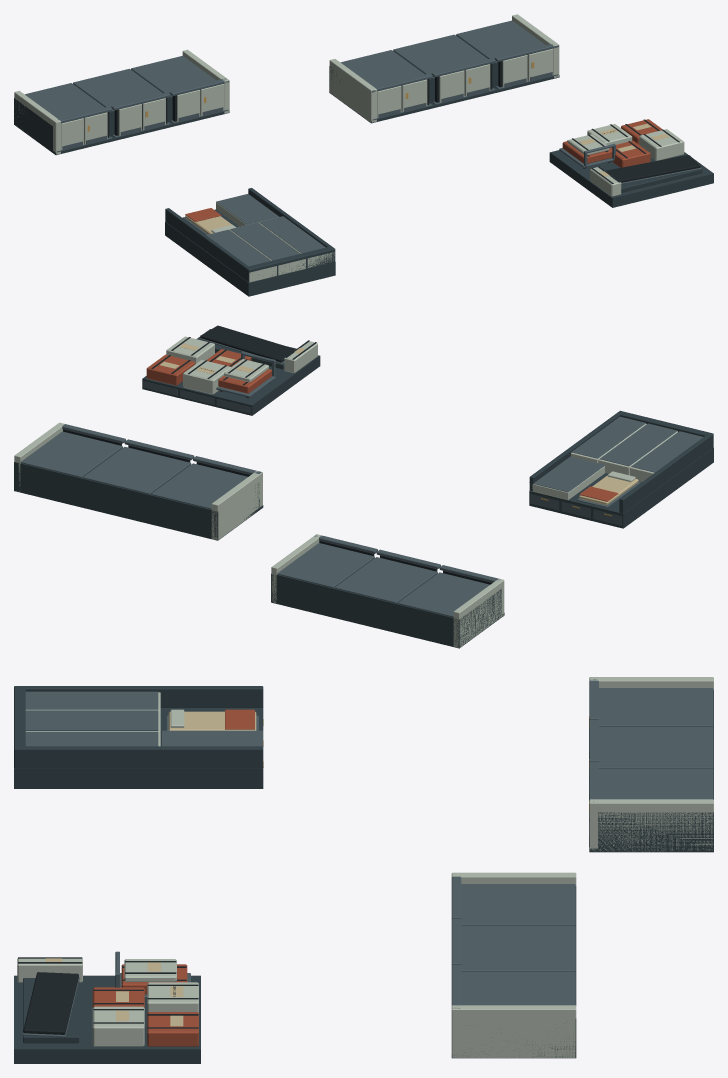
Rendered from residential-gallery-equipment.glb.
3 renders of one model, top to bottom at view 1: azimuth 30°, elevation 25°; view 2: azimuth 150°, elevation 25°; view 3: azimuth 270°, elevation 25°, orthographic. The views are drawn at different scales.
Visible parts, largest first — view 1: rg_cabin_ne__batch_rg_edge, rg_cabin_nw__batch_rg_edge, rg_cabin_ne__batch_rg_armor, rg_bunk_storage__batch_rg_steel, rg_cabin_nw__batch_rg_armor, rg_bunk_storage__batch_rg_edge, rg_packing__batch_rg_steel, rg_packing__batch_rg_armor, rg_cabin_nw__batch_rg_steel, rg_packing__batch_rg_rubber, rg_packing__batch_rg_red, rg_bunk_storage__batch_rg_armor (+4 smaller); view 2: rg_cabin_ne__batch_rg_edge, rg_cabin_nw__batch_rg_edge, rg_cabin_nw__batch_rg_steel, rg_bunk_storage__batch_rg_edge, rg_cabin_ne__batch_rg_steel, rg_bunk_storage__batch_rg_steel, rg_packing__batch_rg_armor, rg_cabin_nw__batch_rg_armor, rg_cabin_ne__batch_rg_armor, rg_packing__batch_rg_steel, rg_packing__batch_rg_rubber, rg_packing__batch_rg_red (+4 smaller); view 3: rg_cabin_ne__batch_rg_edge, rg_bunk_storage__batch_rg_steel, rg_cabin_nw__batch_rg_edge, rg_bunk_storage__batch_rg_edge, rg_cabin_ne__batch_rg_armor, rg_cabin_nw__batch_rg_armor, rg_packing__batch_rg_steel, rg_packing__batch_rg_armor, rg_cabin_nw__batch_rg_steel, rg_packing__batch_rg_rubber, rg_packing__batch_rg_red, rg_bunk_storage__batch_rg_bone (+3 smaller).
Boxes of the visible parts, <box> form: rg_cabin_ne__batch_rg_edge: <box>340,20,558,120</box>; rg_cabin_nw__batch_rg_edge: <box>25,55,228,152</box>; rg_cabin_ne__batch_rg_armor: <box>329,14,559,122</box>; rg_bunk_storage__batch_rg_steel: <box>165,188,335,296</box>; rg_cabin_nw__batch_rg_armor: <box>14,49,229,154</box>; rg_bunk_storage__batch_rg_edge: <box>183,194,325,266</box>; rg_packing__batch_rg_steel: <box>549,150,713,207</box>; rg_packing__batch_rg_armor: <box>568,124,684,196</box>; rg_cabin_nw__batch_rg_steel: <box>14,69,229,155</box>; rg_packing__batch_rg_rubber: <box>564,119,700,183</box>; rg_packing__batch_rg_red: <box>562,119,662,167</box>; rg_bunk_storage__batch_rg_armor: <box>211,202,334,282</box>; rg_cabin_ne__batch_rg_edge: <box>20,424,261,509</box>; rg_cabin_nw__batch_rg_edge: <box>277,535,500,617</box>; rg_cabin_nw__batch_rg_steel: <box>271,558,504,648</box>; rg_bunk_storage__batch_rg_edge: <box>529,416,703,525</box>; rg_cabin_ne__batch_rg_steel: <box>14,447,263,540</box>; rg_bunk_storage__batch_rg_steel: <box>529,410,713,528</box>; rg_packing__batch_rg_armor: <box>166,336,317,394</box>; rg_cabin_nw__batch_rg_armor: <box>271,534,504,647</box>; rg_cabin_ne__batch_rg_armor: <box>14,422,262,540</box>; rg_packing__batch_rg_steel: <box>142,329,320,415</box>; rg_packing__batch_rg_rubber: <box>151,325,316,398</box>; rg_packing__batch_rg_red: <box>146,349,271,393</box>; rg_cabin_ne__batch_rg_edge: <box>451,876,575,1008</box>; rg_bunk_storage__batch_rg_steel: <box>14,686,263,788</box>; rg_cabin_nw__batch_rg_edge: <box>589,677,713,846</box>; rg_bunk_storage__batch_rg_edge: <box>25,691,263,746</box>; rg_cabin_ne__batch_rg_armor: <box>451,872,576,1057</box>; rg_cabin_nw__batch_rg_armor: <box>589,677,713,851</box>; rg_packing__batch_rg_steel: <box>14,975,200,1063</box>; rg_packing__batch_rg_armor: <box>17,958,198,1046</box>; rg_cabin_nw__batch_rg_steel: <box>589,690,713,852</box>; rg_packing__batch_rg_rubber: <box>18,957,198,1034</box>; rg_packing__batch_rg_red: <box>92,964,198,1046</box>; rg_bunk_storage__batch_rg_bone: <box>168,711,256,730</box>.
Size of the model in its own units: 19.98 by 1.35 by 17.48.
